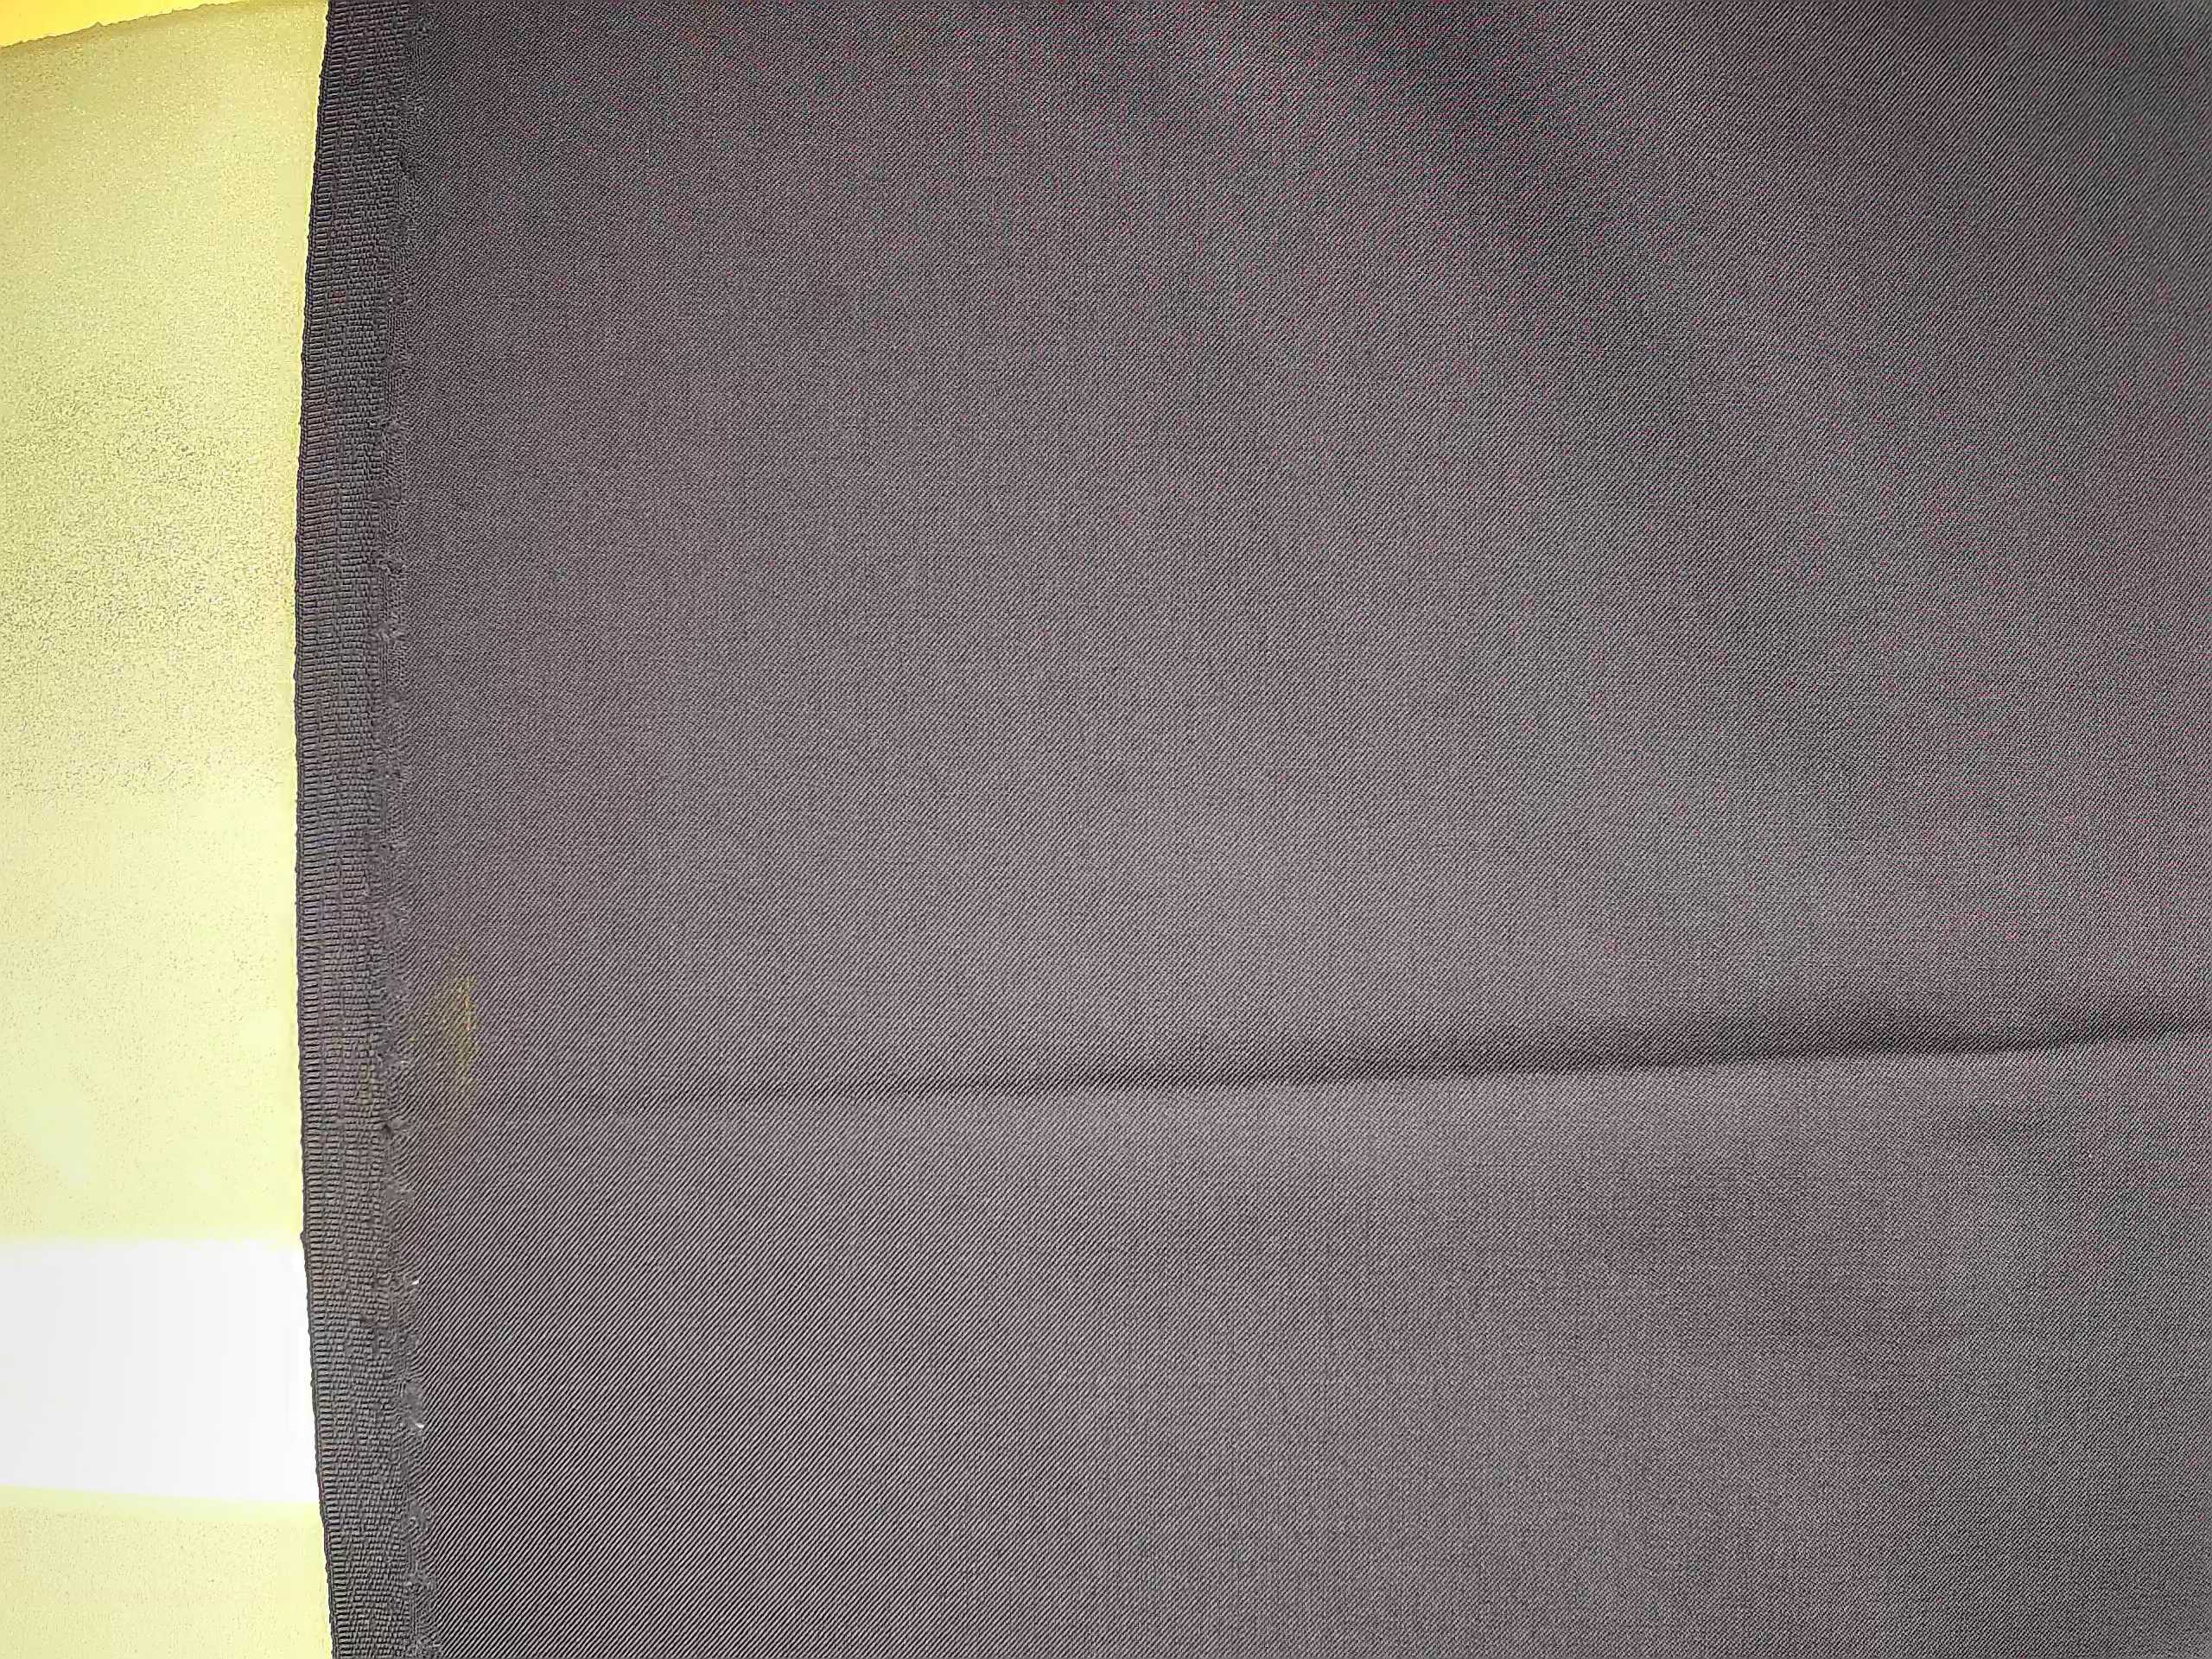puncture-hole: (352, 148, 428, 1427)
